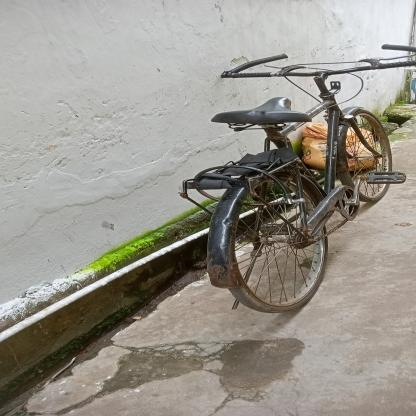bike: (134, 38, 416, 333)
